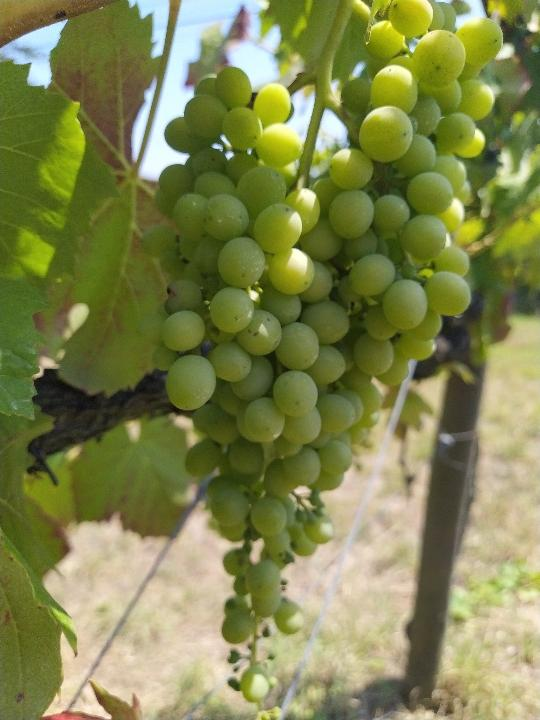grape: (155, 3, 507, 719)
